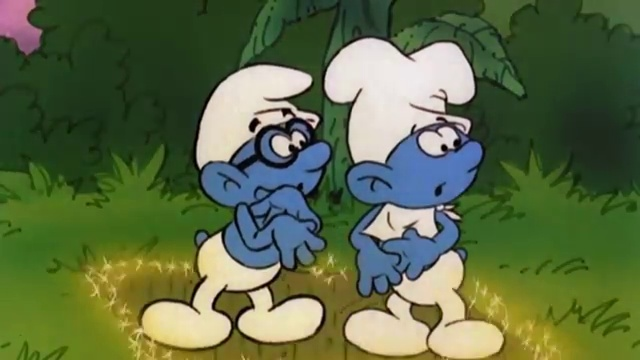smurf: (322, 37, 506, 360), (132, 63, 334, 350)
